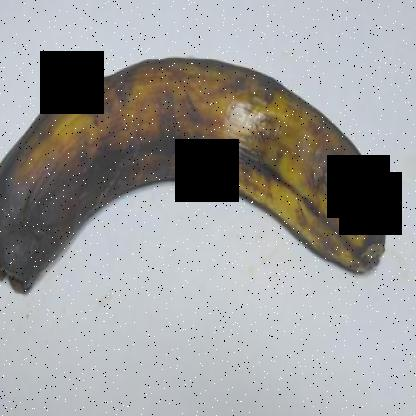overripe: (0, 28, 409, 333)
